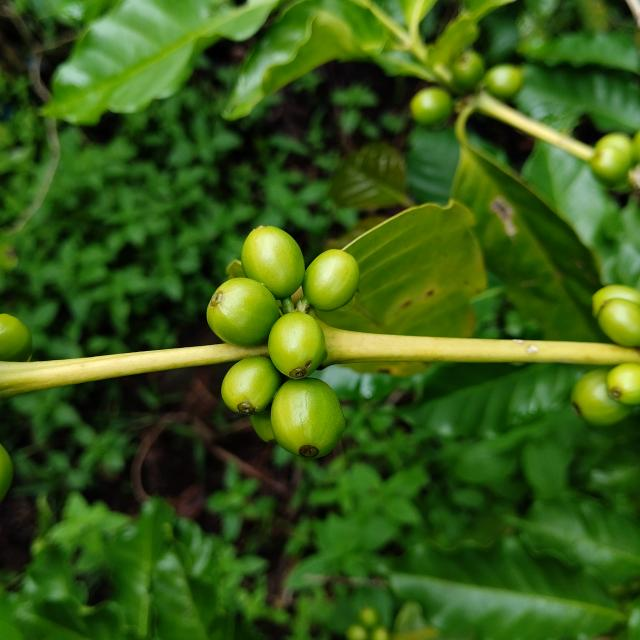green: (271, 378, 346, 459), (206, 278, 280, 346), (241, 226, 305, 299), (268, 312, 328, 379), (302, 249, 360, 311), (221, 357, 282, 415), (572, 369, 633, 426), (593, 285, 640, 347), (599, 298, 640, 347), (0, 314, 31, 362), (608, 363, 640, 405), (250, 405, 276, 444), (0, 445, 12, 502)
